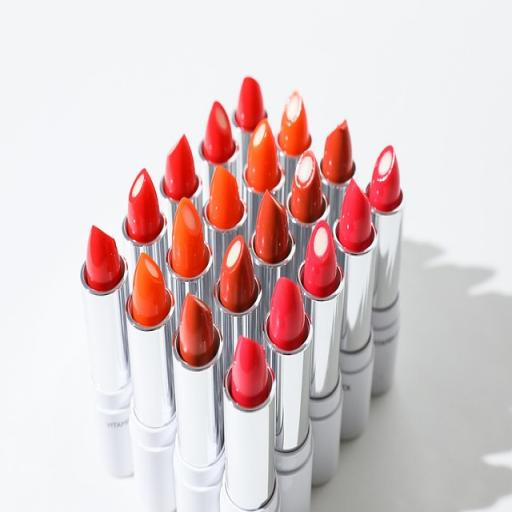lipstick: (81, 226, 132, 477), (126, 255, 176, 511), (298, 221, 343, 485), (333, 180, 377, 440), (264, 279, 312, 511), (172, 294, 223, 511), (220, 337, 279, 511), (368, 146, 403, 394), (214, 236, 262, 366), (249, 192, 295, 314), (167, 198, 212, 318), (286, 150, 329, 269), (203, 166, 247, 279), (242, 119, 285, 233), (122, 170, 167, 272), (200, 101, 240, 205), (320, 120, 355, 225), (160, 136, 202, 223), (278, 92, 311, 196), (232, 77, 267, 169)
